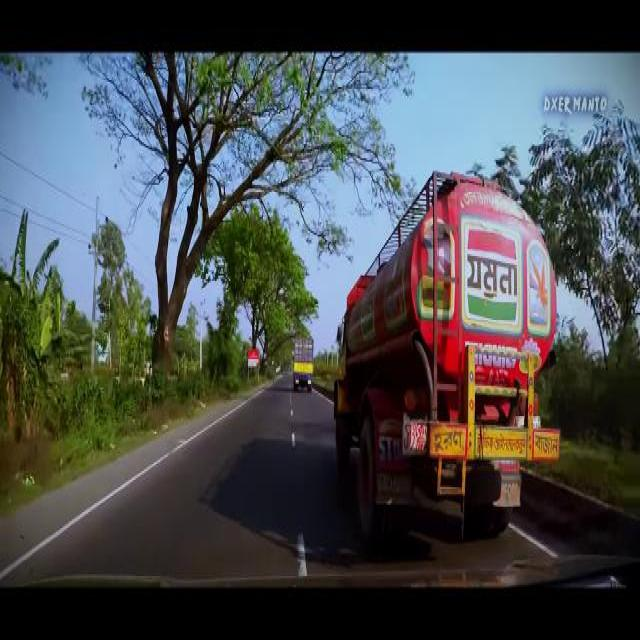truck: (332, 166, 562, 556), (291, 330, 315, 396)
